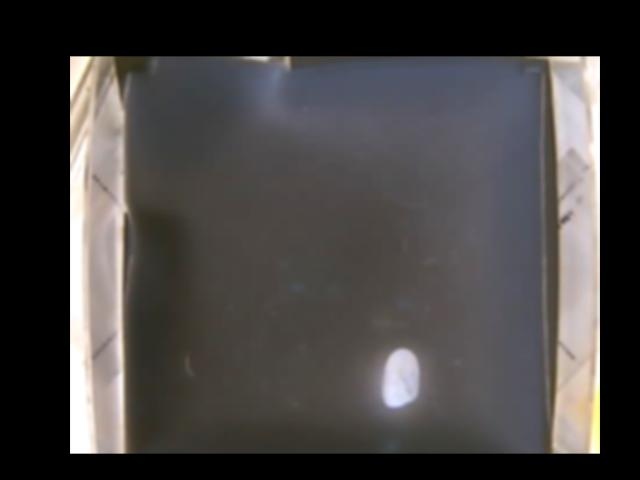Pebble: (382, 346, 417, 408)
